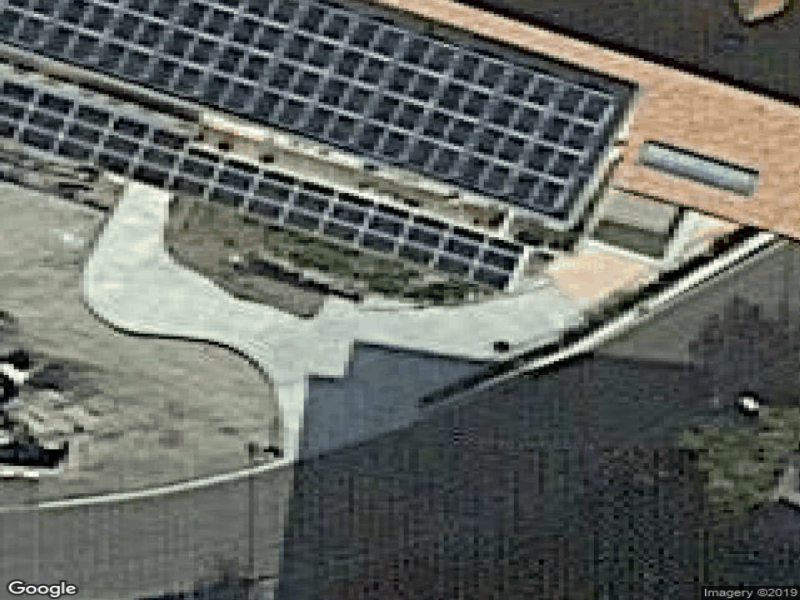pv: (1, 5, 613, 293)
